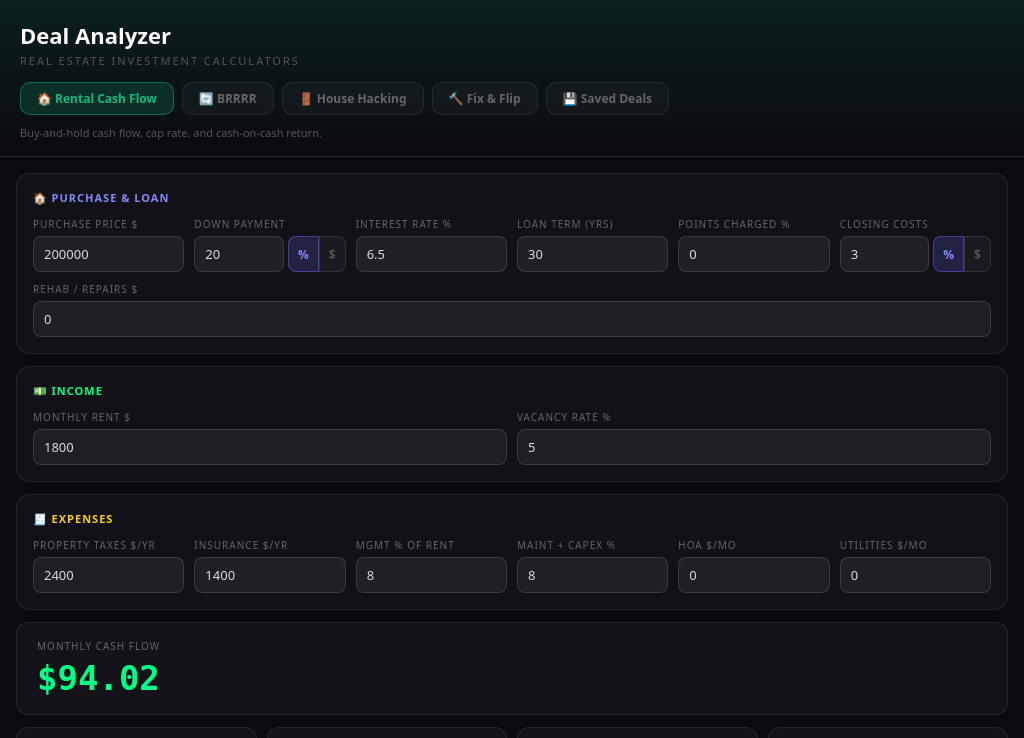
Test: fix & flip flags the 70% rule and reacts to price changes
This screenshot has width=1024, height=738.
Click the button "🔨 Fix & Flip": coordinates (485, 98) [432, 82, 538, 115]
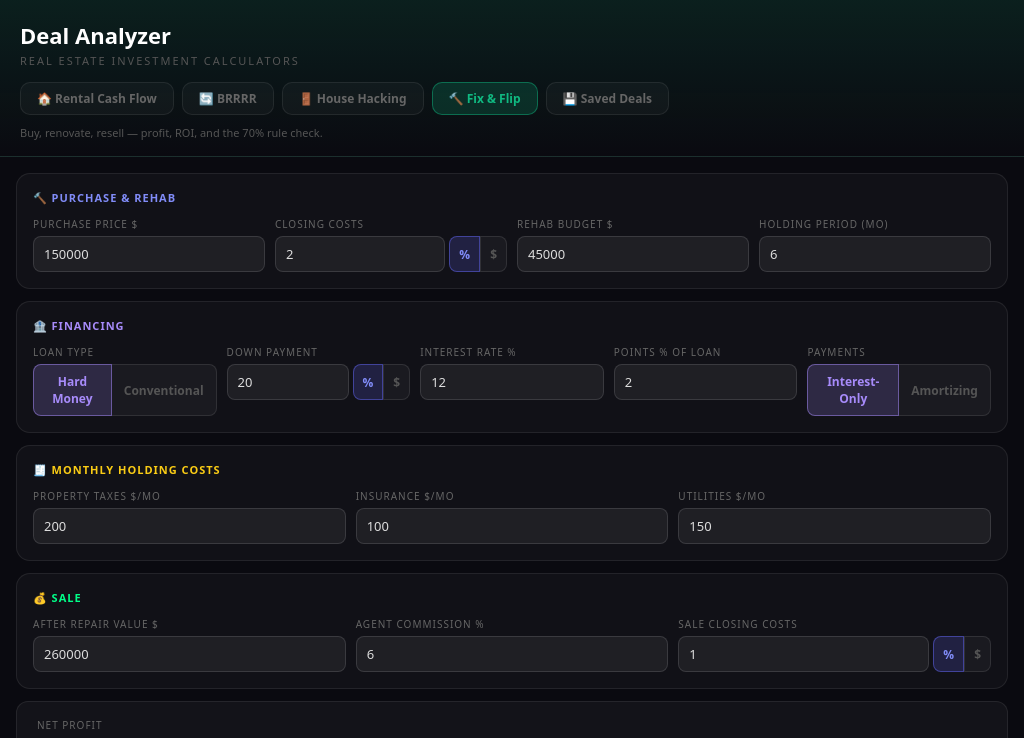
Note: Drop the purchase price below the threshold and the badge flips
Replace the text in the number field showing "150000" with "130000": coordinates (149, 254) [33, 236, 265, 272]
(page scrolled)
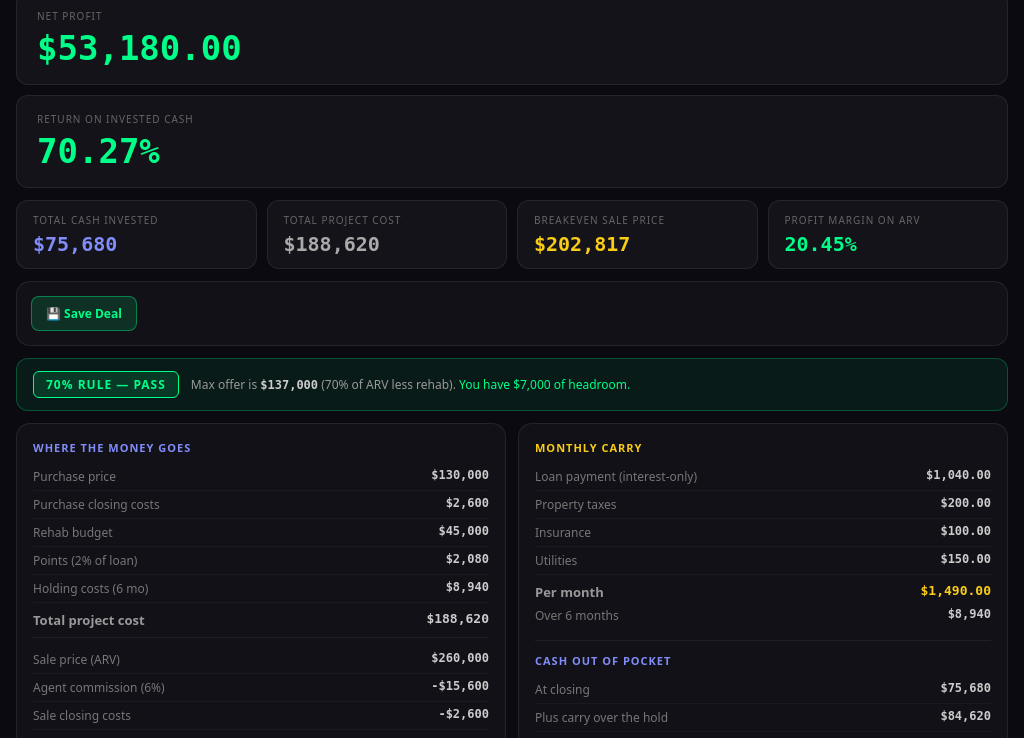
expect the text "70% RULE — PASS" is shown: met, box [33, 371, 179, 398]
